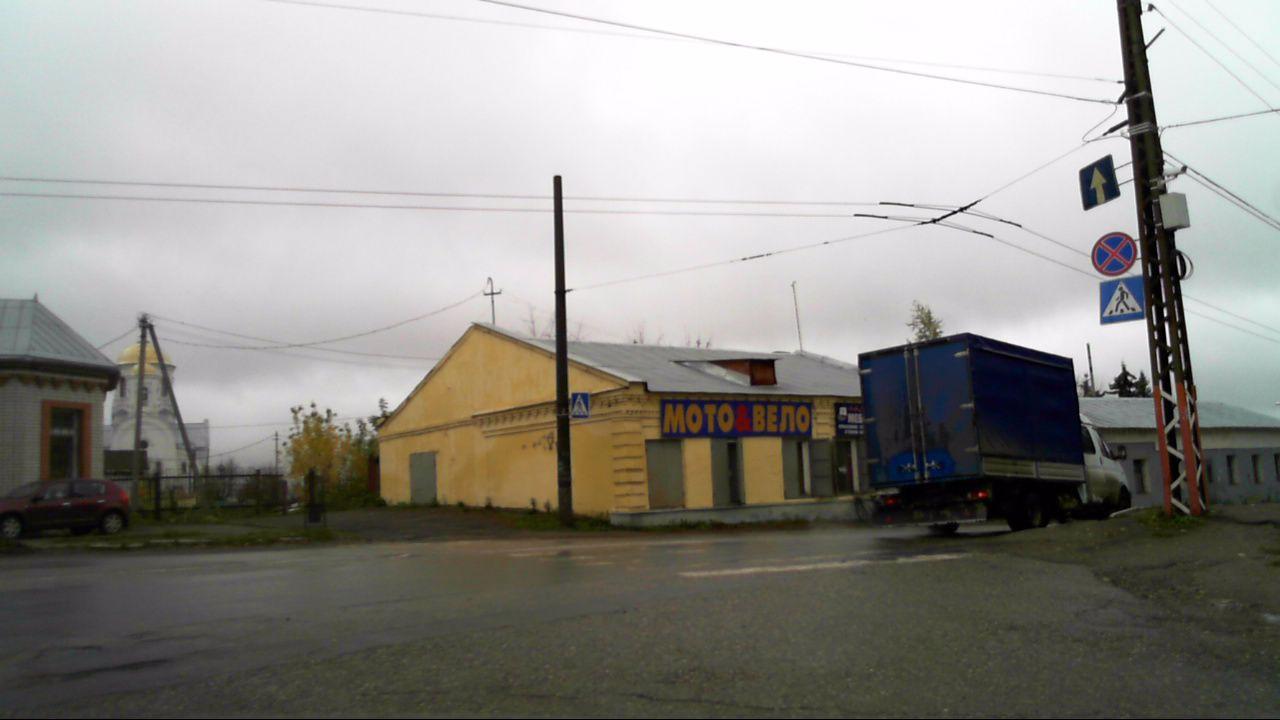No Parking: (1091, 231, 1137, 276)
